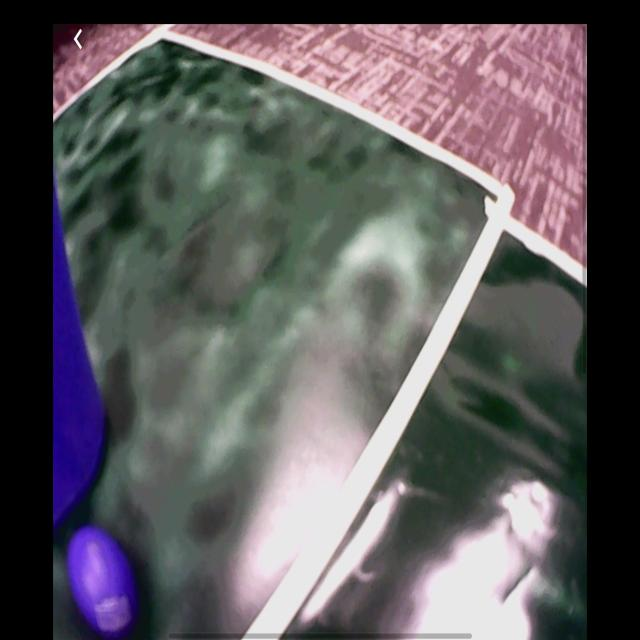ball: (66, 526, 134, 635)
